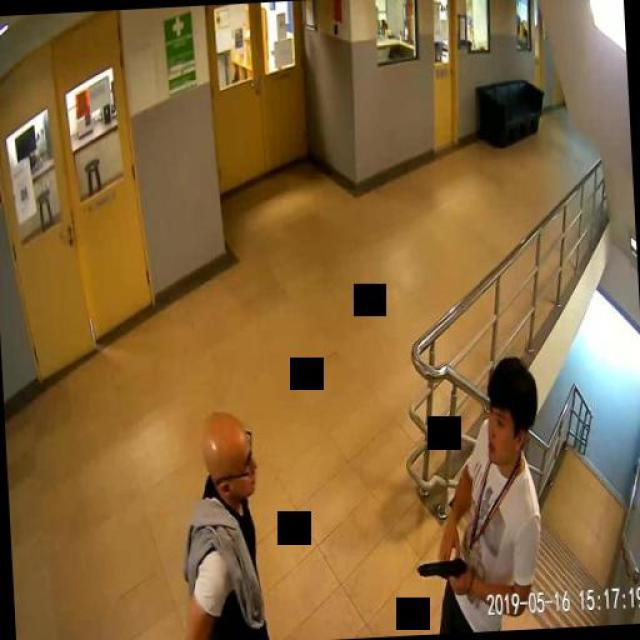gun: (415, 556, 467, 596)
